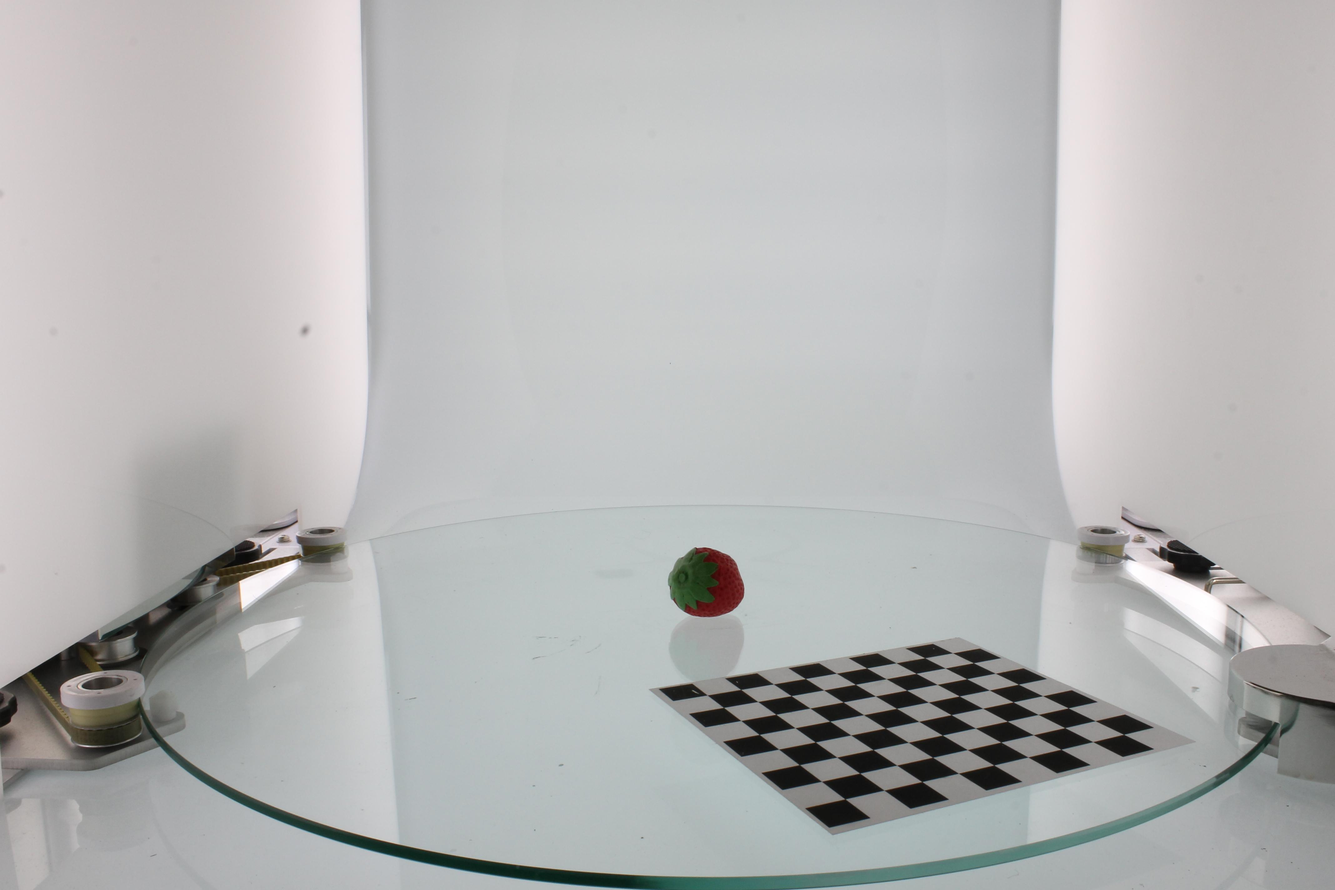strawberry: (669, 547, 744, 617)
